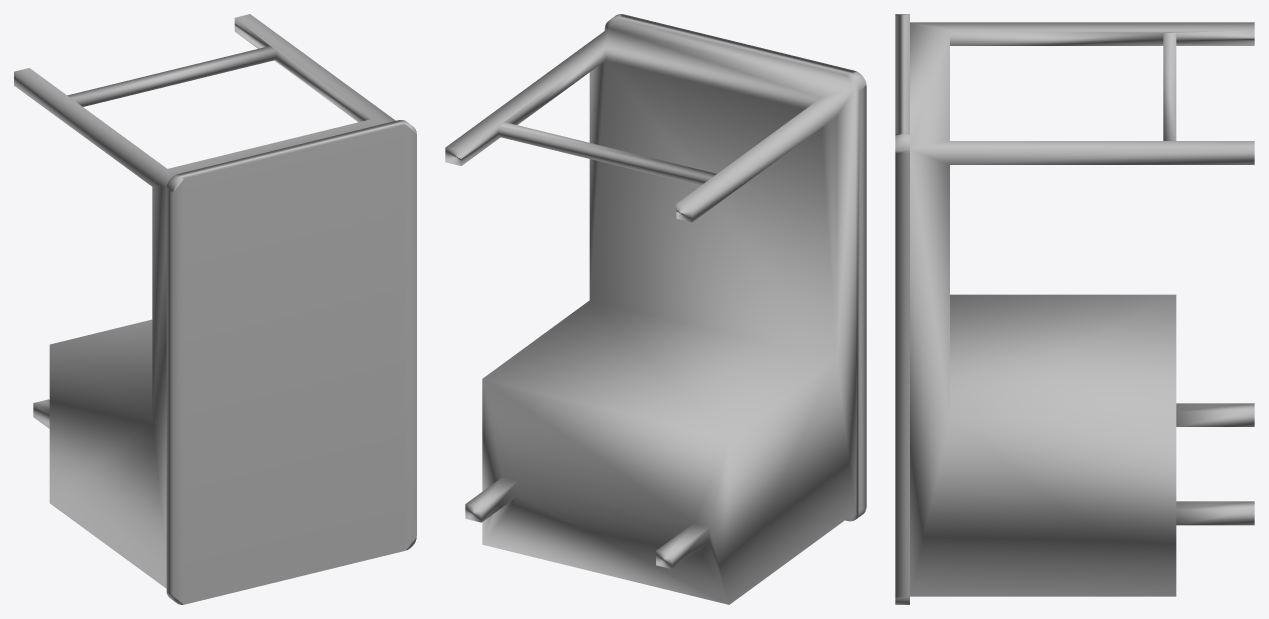
Rendered from desk_takimoto.dae.
3 renders of one model, left to right at view 1: azimuth 30°, elevation 25°; view 2: azimuth 150°, elevation 25°; view 3: azimuth 270°, elevation 25°, orthographic. The views are drawn at different scales.
Parts seen in each view (by area): view 1: transform1; view 2: transform1; view 3: transform1.
Part boxes in pixels (x1,y1,x2,y2): transform1: [14, 14, 416, 604]; transform1: [445, 14, 866, 604]; transform1: [895, 14, 1254, 604].
Bounding box in the file's own units: 0.635 × 1.06 × 0.735.
1 material, 1 textured.
